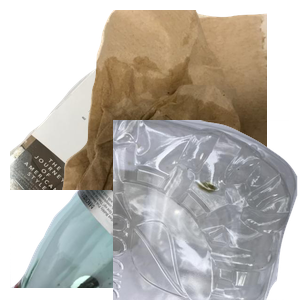glass: (10, 120, 224, 300)
paper: (10, 46, 250, 226)
plastic: (113, 120, 300, 300)
trash: (60, 10, 300, 190)
